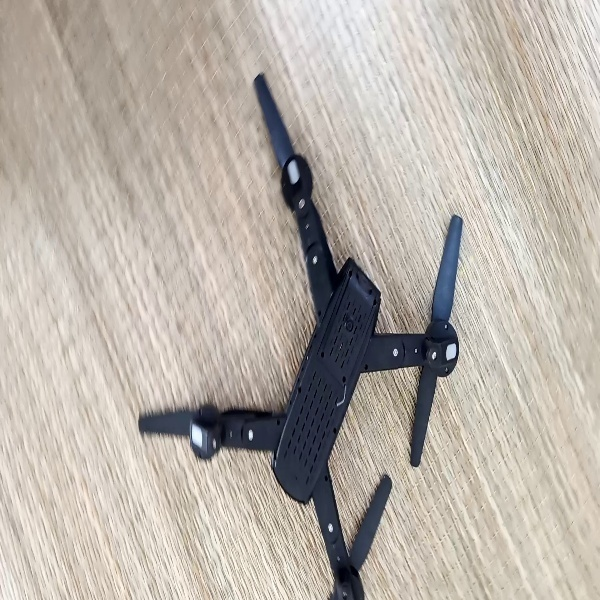drone: (137, 73, 471, 597)
